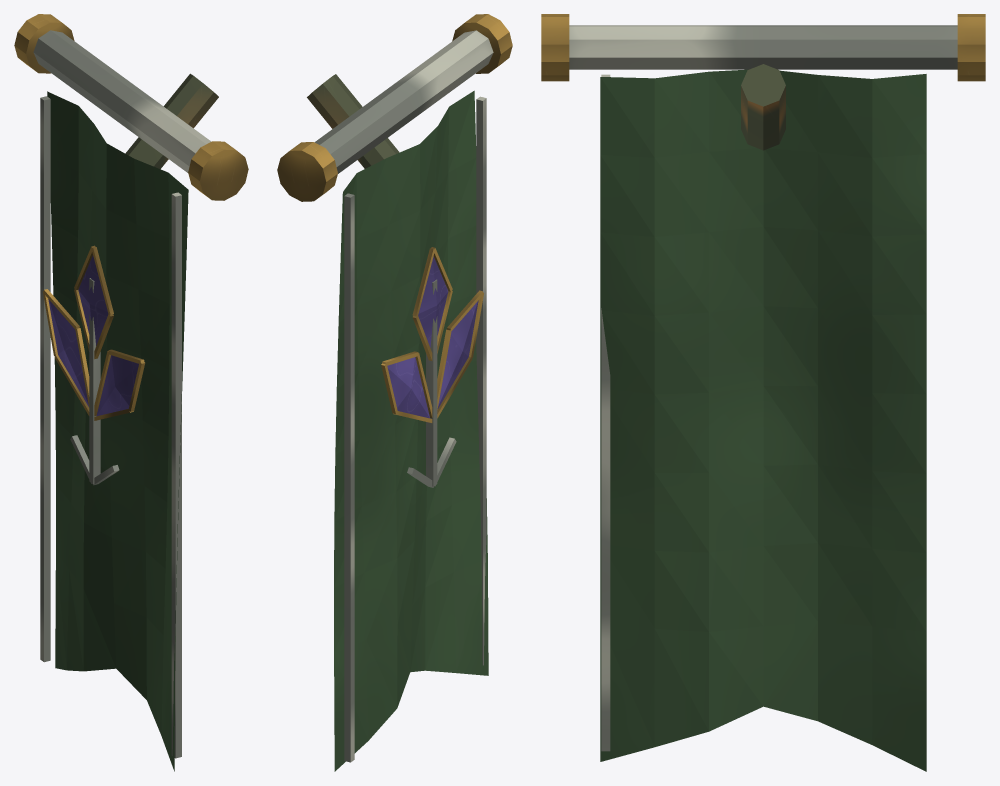
The model's file is b16_banner.fbx.
3 views of the same model, side by side, from view 1: azimuth 30°, elevation 25°; view 2: azimuth 150°, elevation 25°; view 3: azimuth 270°, elevation 25° (orthographic). The views are drawn at different scales.
Parts seen in each view (by area): view 1: b16_banner; view 2: b16_banner; view 3: b16_banner.
Part boxes in pixels (x1,y1,x2,y2): b16_banner: (14,14,248,771); b16_banner: (277,14,512,771); b16_banner: (541,14,985,771).
Size of the model in its own units: 3102 by 7900 by 14900.
